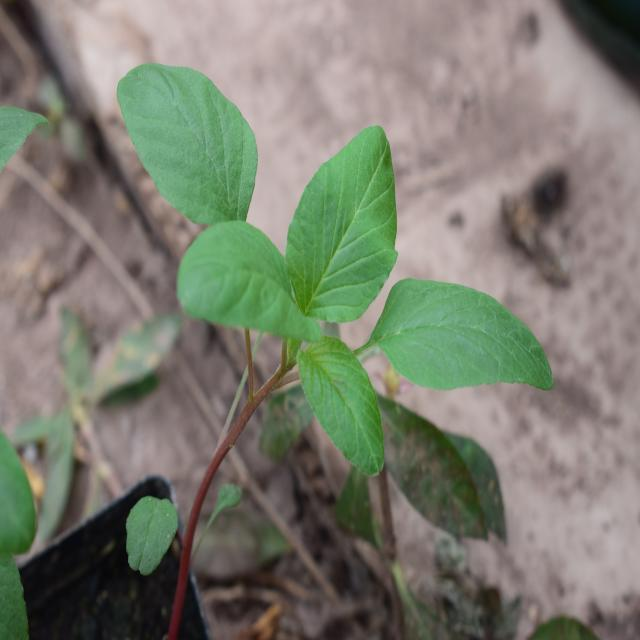pigweed: (112, 60, 530, 478)
